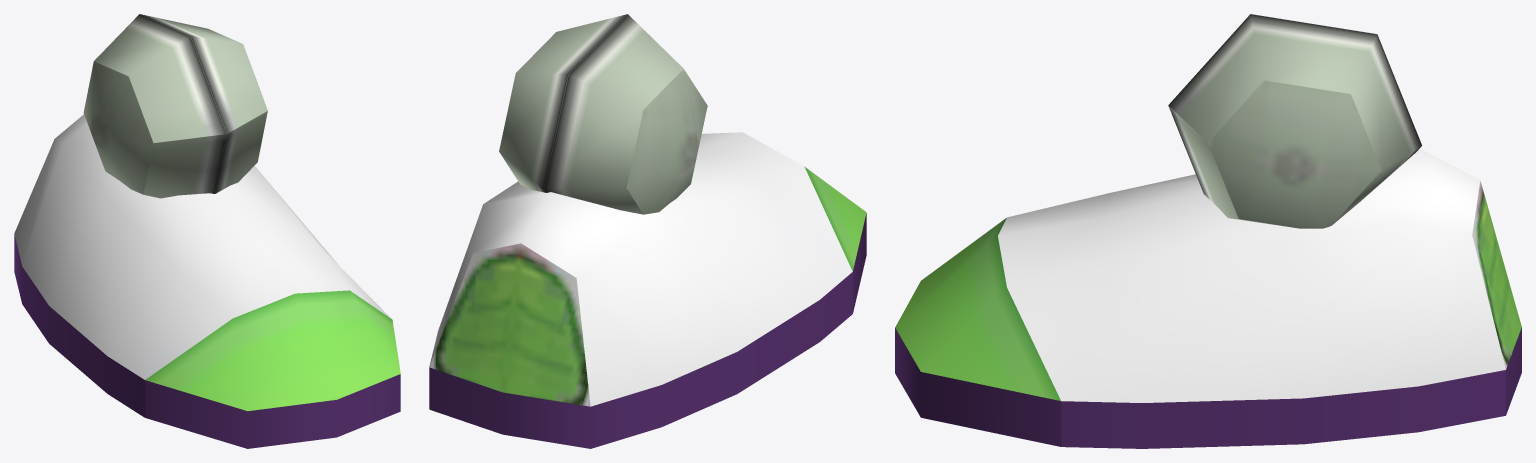
The model's file is buzzlightyLeftFoot.obj.
3 renders of one model, left to right at view 1: azimuth 30°, elevation 25°; view 2: azimuth 150°, elevation 25°; view 3: azimuth 270°, elevation 25°, orthographic. The views are drawn at different scales.
Visible parts, largest first — view 1: buzzlightyLeftFoot_buzzlighty.004; view 2: buzzlightyLeftFoot_buzzlighty.004; view 3: buzzlightyLeftFoot_buzzlighty.004.
Boxes of the visible parts, x1,y1,x2,y2 form: buzzlightyLeftFoot_buzzlighty.004: (14, 14, 400, 448); buzzlightyLeftFoot_buzzlighty.004: (429, 14, 866, 448); buzzlightyLeftFoot_buzzlighty.004: (895, 14, 1521, 448).
Size of the model in its own units: 0.1084 by 0.1195 by 0.1889.
Materials: 1 (1 with a texture image).
